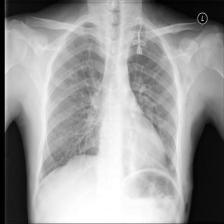normal: (34, 18, 180, 183)
